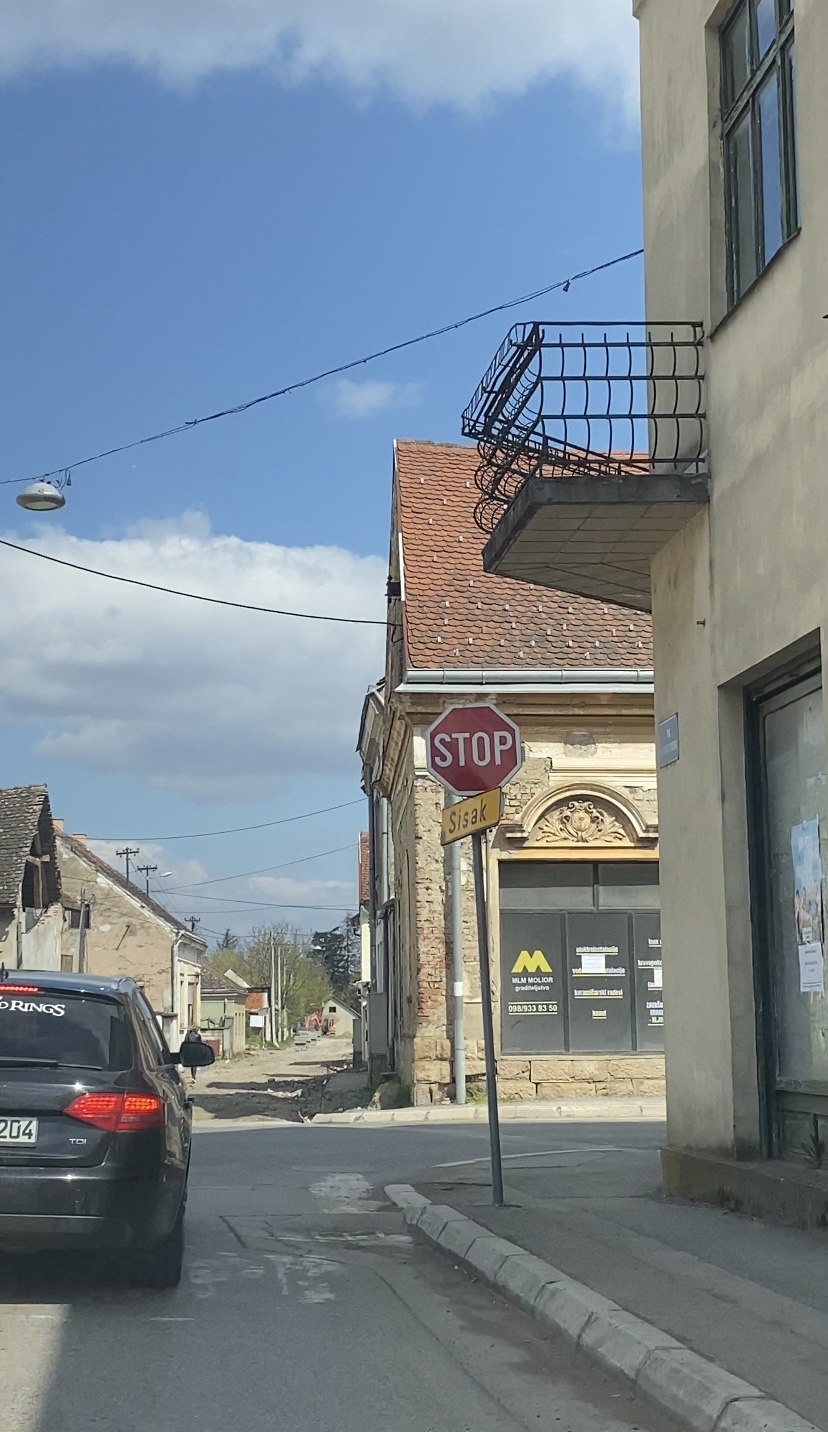Obavezno zaustavljanje: (425, 703, 523, 793)
